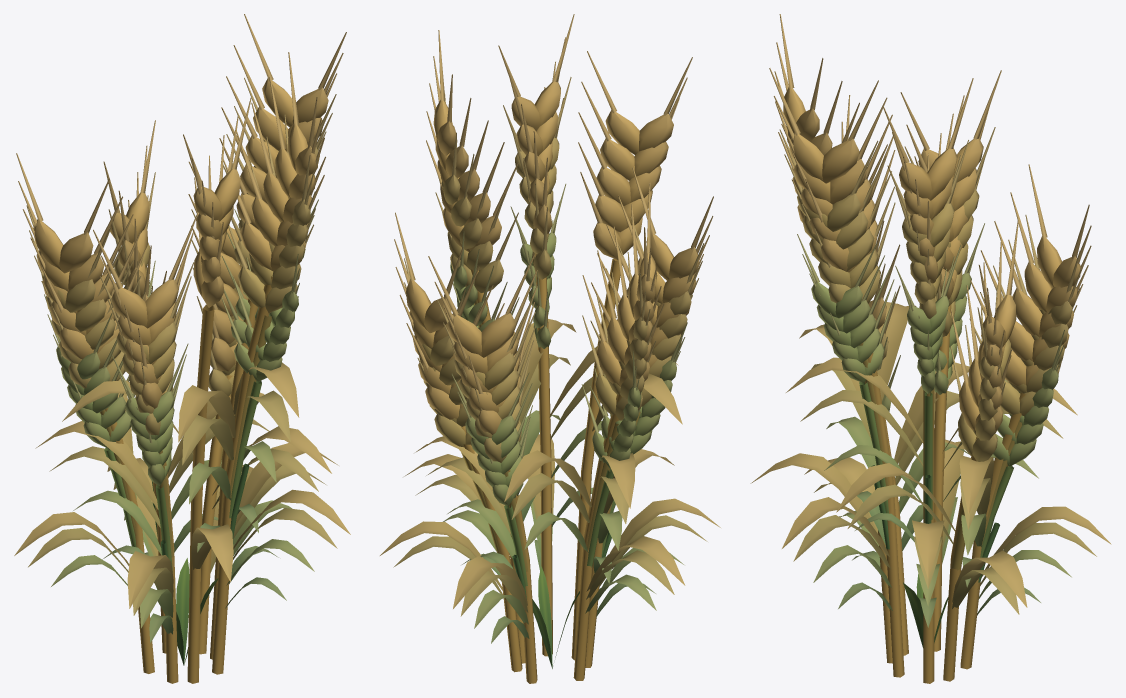
The model's file is wheat.glb.
3 renders of one model, left to right at view 1: azimuth 30°, elevation 25°; view 2: azimuth 150°, elevation 25°; view 3: azimuth 270°, elevation 25°, orthographic. The views are drawn at different scales.
Parts seen in each view (by area): view 1: Phase4, Phase3, Phase2, Phase1, Phase0; view 2: Phase4, Phase3, Phase2, Phase1, Phase0; view 3: Phase4, Phase3, Phase2, Phase1, Phase0.
Boxes of the visible parts, <box> form: Phase4: <box>14,14,350,683</box>; Phase3: <box>26,77,337,615</box>; Phase2: <box>44,199,318,628</box>; Phase1: <box>102,463,286,643</box>; Phase0: <box>156,558,218,665</box>; Phase4: <box>380,14,720,683</box>; Phase3: <box>393,77,707,616</box>; Phase2: <box>443,184,687,628</box>; Phase1: <box>462,487,655,643</box>; Phase0: <box>532,566,579,668</box>; Phase4: <box>750,14,1111,683</box>; Phase3: <box>779,127,1096,614</box>; Phase2: <box>797,223,1071,605</box>; Phase1: <box>838,465,1040,627</box>; Phase0: <box>903,574,948,647</box>.
Bounding box in the file's own units: 0.5381 × 1.02 × 0.532.
